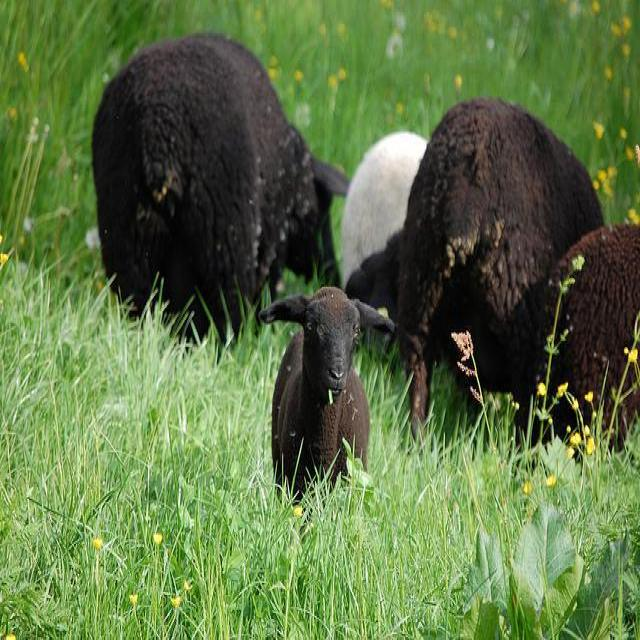Sheep: (93, 32, 349, 340), (396, 98, 605, 452), (257, 287, 393, 491), (536, 225, 639, 457), (342, 132, 431, 295)
